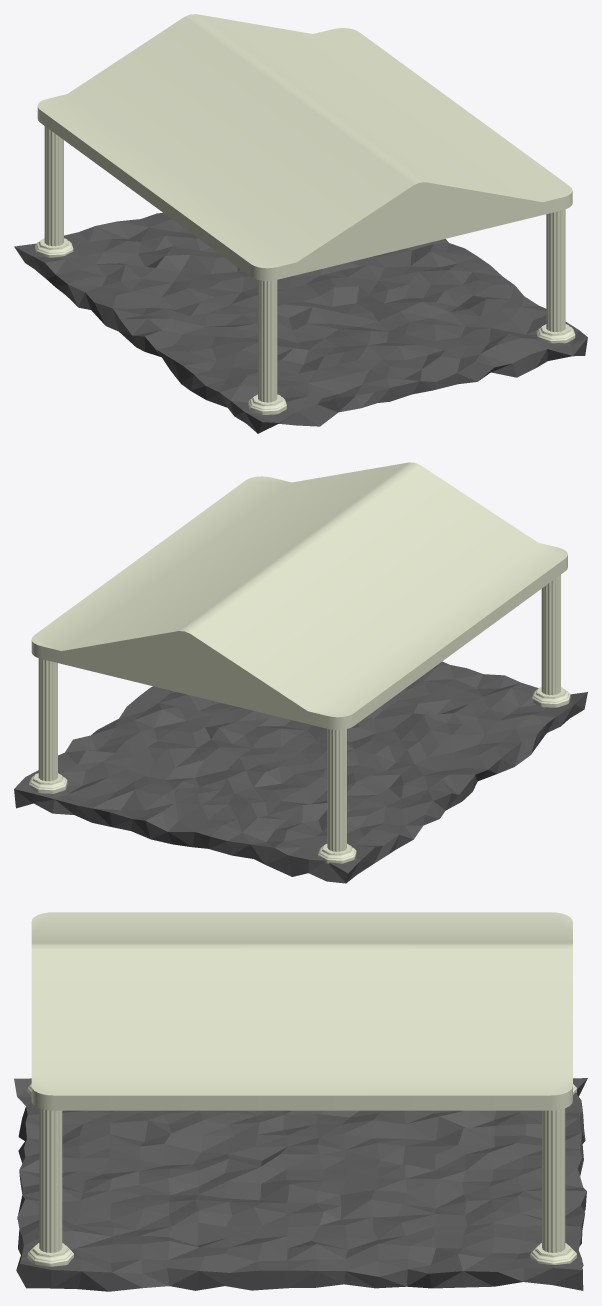
The model's file is yapı.fbx.
The picture shows the model from 3 angles, top to bottom: view 1: azimuth 30°, elevation 25°; view 2: azimuth 150°, elevation 25°; view 3: azimuth 270°, elevation 25°; orthographic projection. The views are drawn at different scales.
Visible parts, largest first — view 1: Cylinder.002; view 2: Cylinder.002; view 3: Cylinder.002.
Part boxes in pixels (x1,y1,x2,y2): Cylinder.002: (14, 14, 587, 433); Cylinder.002: (14, 462, 587, 883); Cylinder.002: (14, 912, 587, 1291).
Size of the model in its own units: 11801 by 7048 by 14445.
